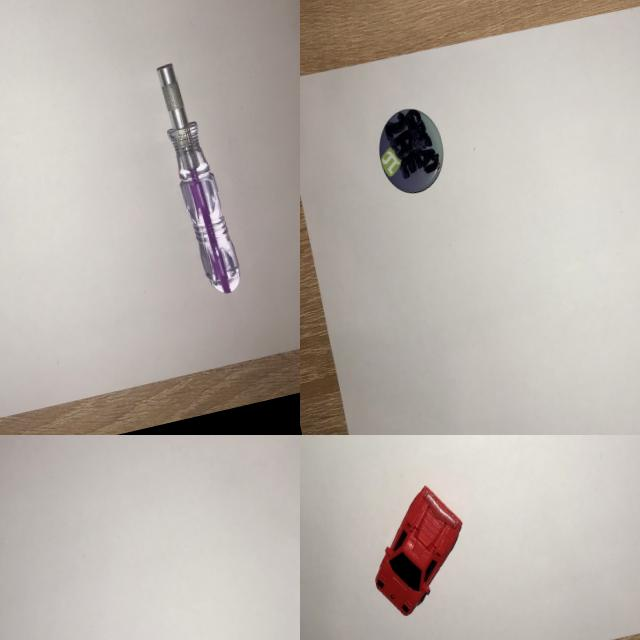car: (348, 472, 486, 626)
icon: (364, 92, 458, 206)
screwdriver: (136, 43, 261, 310), (251, 490, 300, 640)
